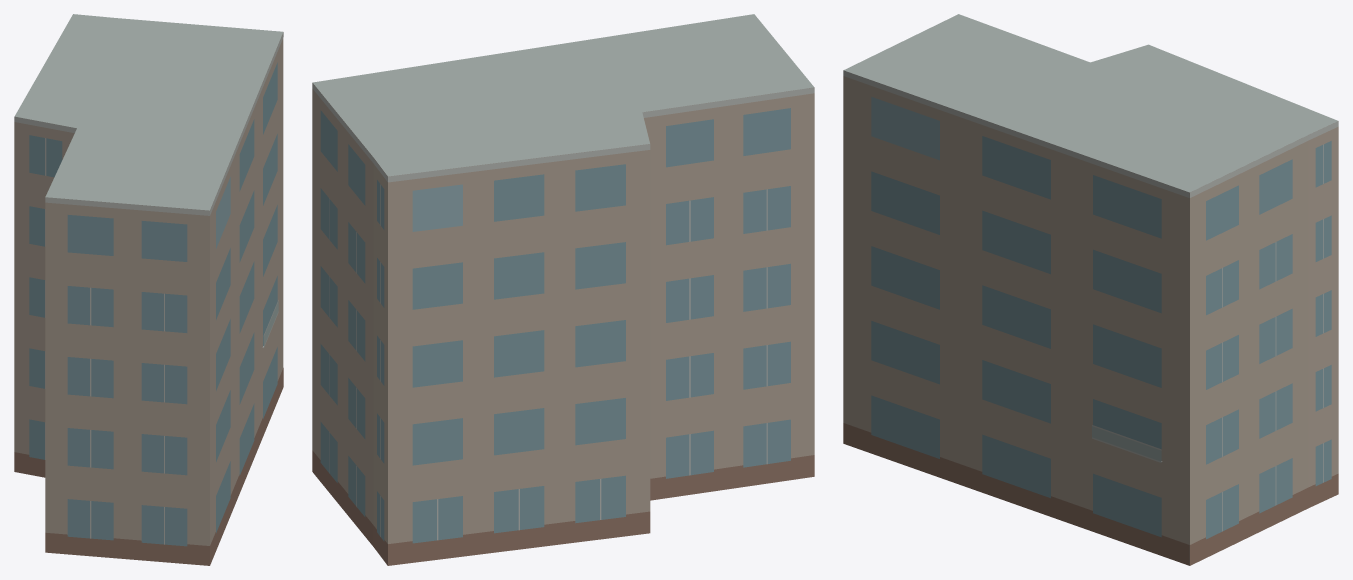
Rendered from survey-upis-32947591.glb.
3 views of the same model, side by side, from view 1: azimuth 30°, elevation 25°; view 2: azimuth 150°, elevation 25°; view 3: azimuth 270°, elevation 25° (orthographic). The views are drawn at different scales.
Parts seen in each view (by area): view 1: survey-upis-32947591.tmp; view 2: survey-upis-32947591.tmp; view 3: survey-upis-32947591.tmp.
Part boxes in pixels (left/top/right/bottom): survey-upis-32947591.tmp: left=14, top=14, right=283, bottom=565; survey-upis-32947591.tmp: left=312, top=14, right=814, bottom=565; survey-upis-32947591.tmp: left=843, top=14, right=1338, bottom=565.
Bounding box in the file's own units: 16.46 × 16.04 × 19.28.
